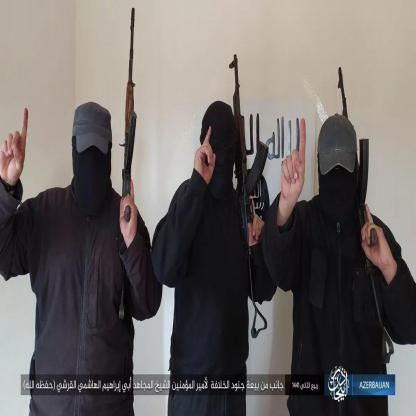rifle: (335, 66, 397, 368), (228, 54, 269, 337), (118, 4, 142, 224)
